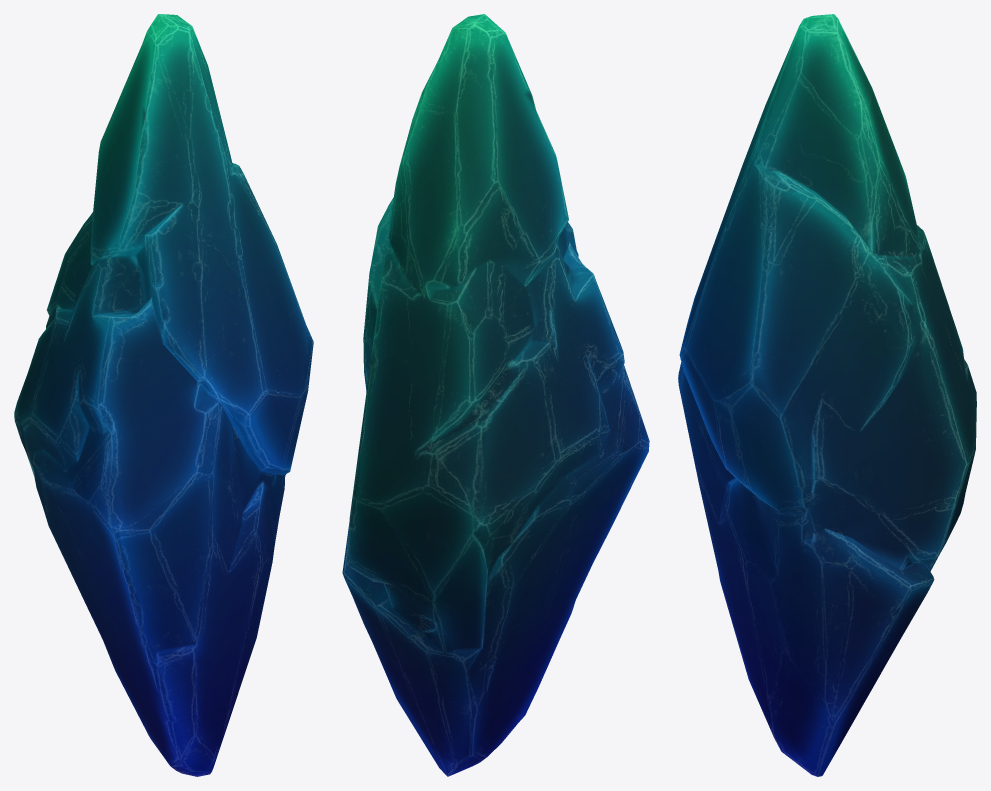
The model's file is crystal_1.fbx.
3 views of the same model, side by side, from view 1: azimuth 30°, elevation 25°; view 2: azimuth 150°, elevation 25°; view 3: azimuth 270°, elevation 25° (orthographic). The views are drawn at different scales.
Visible parts, largest first — view 1: crystal_1; view 2: crystal_1; view 3: crystal_1.
Boxes of the visible parts, x1=… form: crystal_1: x1=14, y1=14, x2=313, y2=776; crystal_1: x1=342, y1=14, x2=649, y2=776; crystal_1: x1=678, y1=14, x2=976, y2=776.
Bounding box in the file's own units: 16.48 × 50.65 × 18.36.
1 material, 1 textured.
